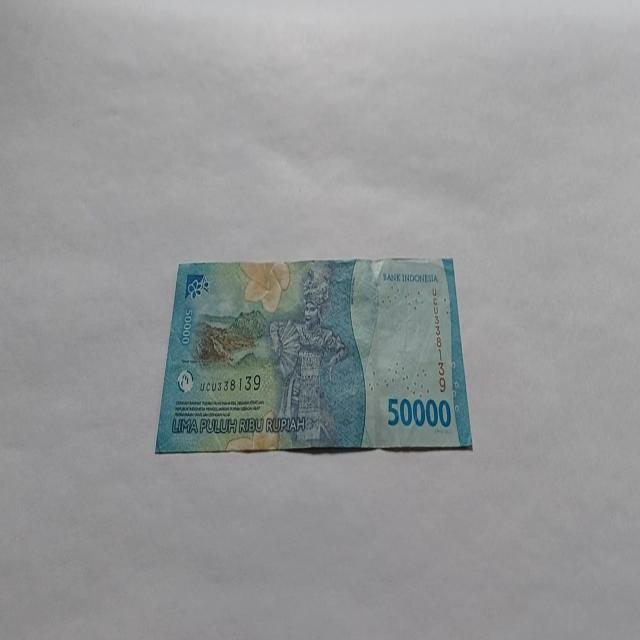lima puluh ribu rupiah: (153, 255, 473, 455)
